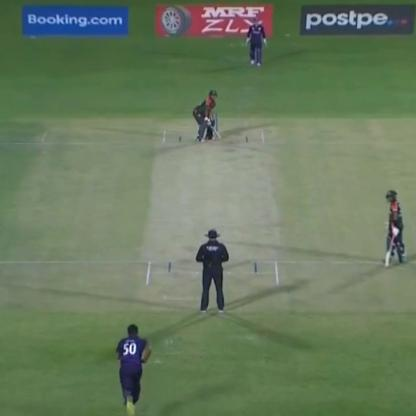bat: (198, 112, 227, 140), (378, 232, 393, 269)
pitch: (144, 126, 288, 310)
